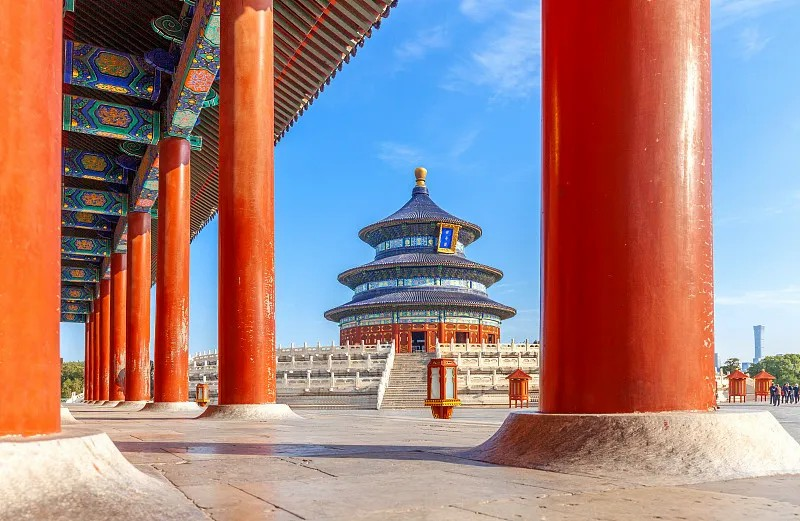Heaven: (322, 168, 519, 355)
